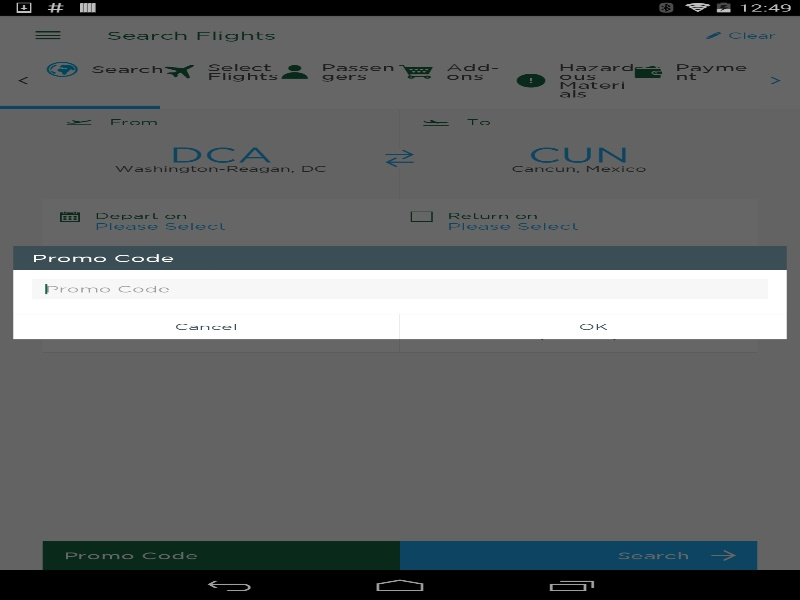Input: (32, 279, 768, 299)
